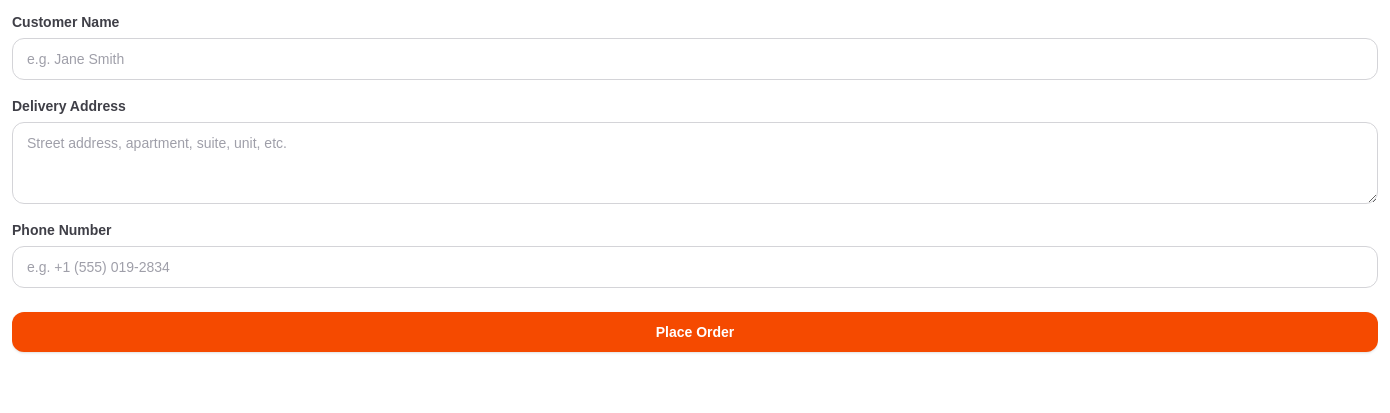
Test case: CheckoutForm Component › prevents duplicate submissions and disables button while submitting
Type "Jane Smith" into the field labelled "Customer Name" at (695, 59), box top-left (12, 38), bottom-right (1378, 80)
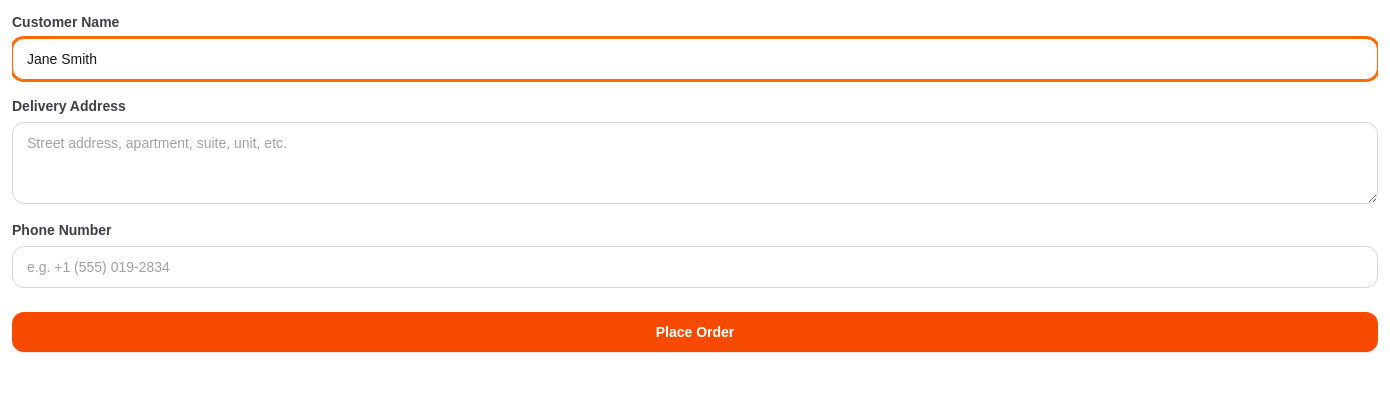
Type "789 Broadway Ave" into the text box labelled "Delivery Address" at (695, 163), box top-left (12, 122), bottom-right (1378, 204)
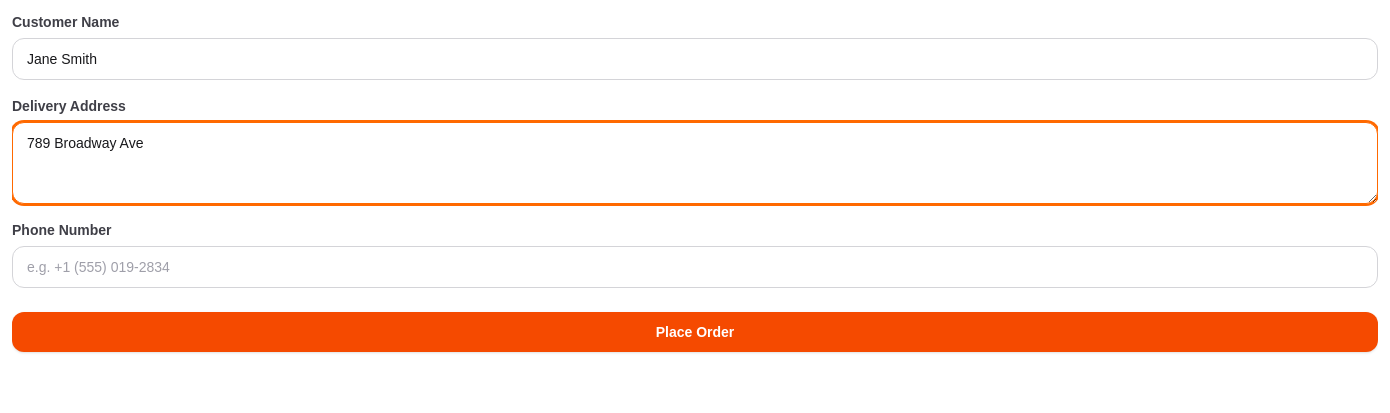
Type "+1 555-987-6543" into the field labelled "Phone Number" at (695, 267), box top-left (12, 246), bottom-right (1378, 288)
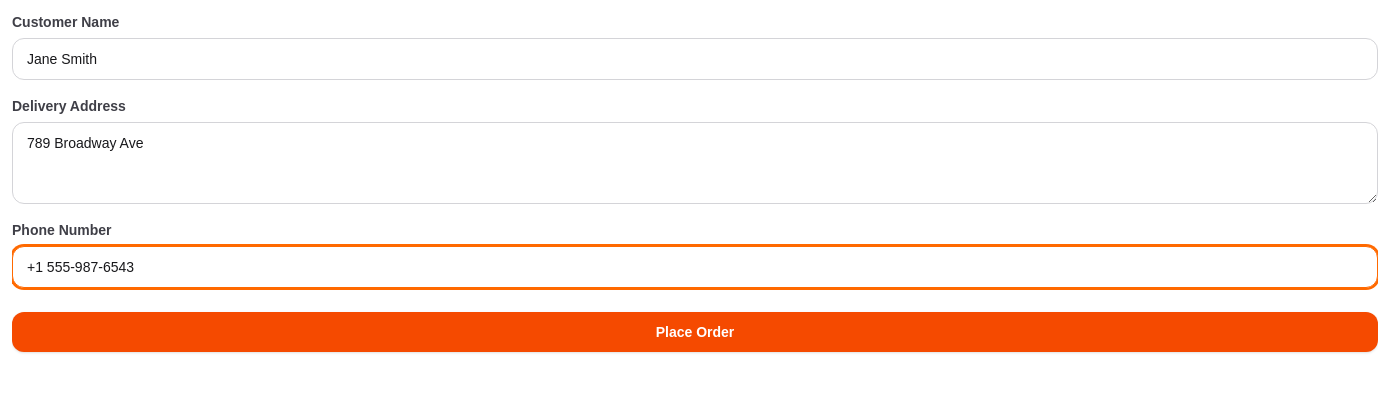
Click the button "Place Order" at (695, 332), box top-left (12, 312), bottom-right (1378, 352)
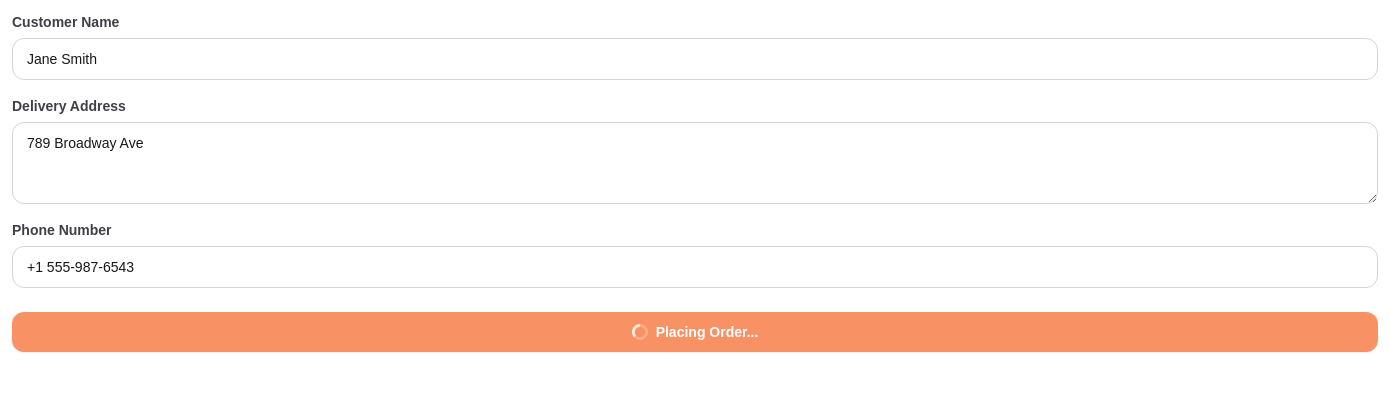
Result: the button named "place order" is disabled
Result: the button named "place order" shows "Placing Order"
# Clicking again should not trigger another fetch
Click the button named "place order" at (695, 332), box top-left (12, 312), bottom-right (1378, 352)
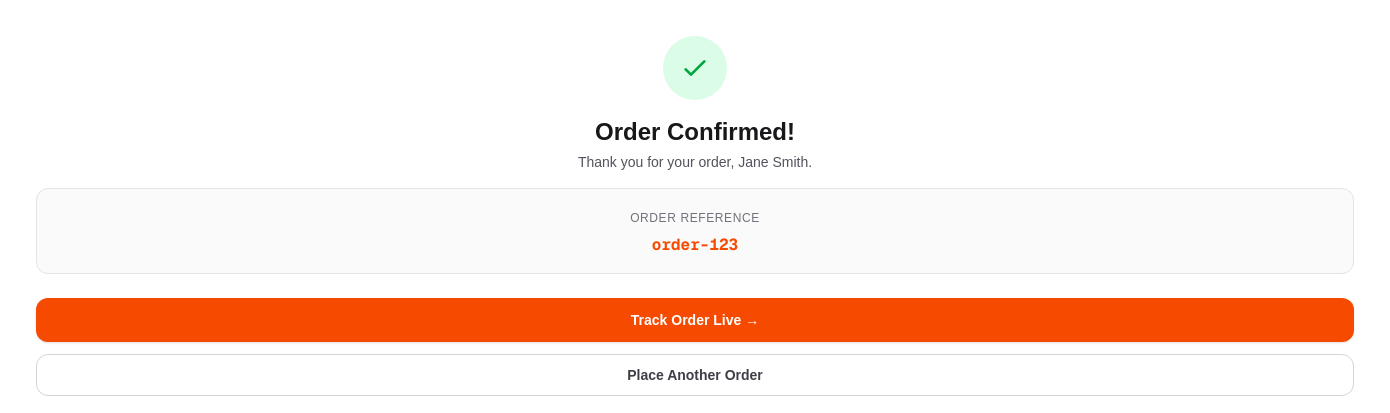
Result: the heading "Order Confirmed!" is shown at top-left (595, 116), bottom-right (795, 148)
